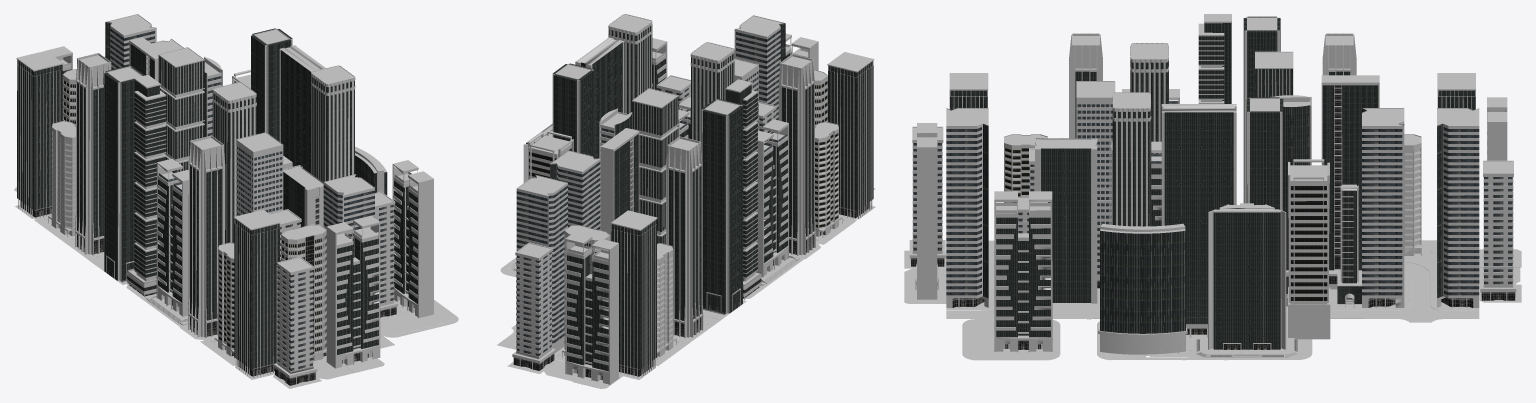
Rendered from Refined City Model.fbx.
3 renders of one model, left to right at view 1: azimuth 30°, elevation 25°; view 2: azimuth 150°, elevation 25°; view 3: azimuth 270°, elevation 25°, orthographic. The views are drawn at different scales.
Visible parts, largest first — view 1: BC_P06_004, EC_015_001, EC_035_001, EC_026, EC_015, BC_P06_001, EC_034, EC_035, EC_016_1, BC_P06, EC_027_003, EC_017_1 (+22 smaller); view 2: EC_026, BC_P06_003, EC_035, EC_015_001, EC_015, EC_035_001, EC_001_Clone_, EC_017_1, BC_P06, EC_027_002, EC_034, BC_030 (+23 smaller); view 3: BC_026_Clone_, BC_028, BC_033, BC_P06_001, BC_007_Clone_, EC_001_Clone__1, EC_001_Clone_, EC_001_Clone__001, EC_005_Clone_, BC_030, EC_016_1, EC_027_002 (+24 smaller).
Part boxes in pixels (x1=…): BC_P06_004: x1=326, y1=215, x2=380, y2=368; EC_015_001: x1=233, y1=209, x2=280, y2=377; EC_035_001: x1=188, y1=135, x2=225, y2=337; EC_026: x1=104, y1=66, x2=144, y2=281; EC_015: x1=16, y1=51, x2=63, y2=218; BC_P06_001: x1=392, y1=160, x2=433, y2=318; EC_034: x1=127, y1=75, x2=166, y2=297; EC_035: x1=75, y1=53, x2=111, y2=255; EC_016_1: x1=311, y1=65, x2=355, y2=182; BC_P06: x1=156, y1=158, x2=188, y2=316; EC_027_003: x1=273, y1=257, x2=317, y2=385; EC_017_1: x1=158, y1=47, x2=204, y2=172; EC_026: x1=701, y1=99, x2=742, y2=313; BC_P06_003: x1=565, y1=232, x2=618, y2=384; EC_035: x1=666, y1=136, x2=703, y2=338; EC_015_001: x1=827, y1=52, x2=874, y2=219; EC_015: x1=611, y1=210, x2=657, y2=377; EC_035_001: x1=778, y1=54, x2=815, y2=255; EC_001_Clone_: x1=516, y1=174, x2=567, y2=353; EC_017_1: x1=632, y1=88, x2=678, y2=243; BC_P06: x1=755, y1=119, x2=788, y2=276; EC_027_002: x1=512, y1=242, x2=555, y2=370; EC_034: x1=725, y1=79, x2=761, y2=300; BC_030: x1=600, y1=128, x2=639, y2=240; BC_026_Clone_: x1=1188, y1=203, x2=1305, y2=357; BC_028: x1=1161, y1=104, x2=1236, y2=337; BC_033: x1=1098, y1=223, x2=1187, y2=355; BC_P06_001: x1=994, y1=191, x2=1052, y2=352; BC_007_Clone_: x1=1035, y1=138, x2=1099, y2=307; EC_001_Clone__1: x1=1362, y1=108, x2=1404, y2=307; EC_001_Clone_: x1=1437, y1=108, x2=1479, y2=307; EC_001_Clone__001: x1=946, y1=108, x2=988, y2=307; EC_005_Clone_: x1=1288, y1=159, x2=1330, y2=339; BC_030: x1=1321, y1=75, x2=1379, y2=289; EC_016_1: x1=1112, y1=92, x2=1151, y2=226; EC_027_002: x1=1480, y1=160, x2=1516, y2=300.
Bounding box in the file's own units: 18077 × 13195 × 31595.
